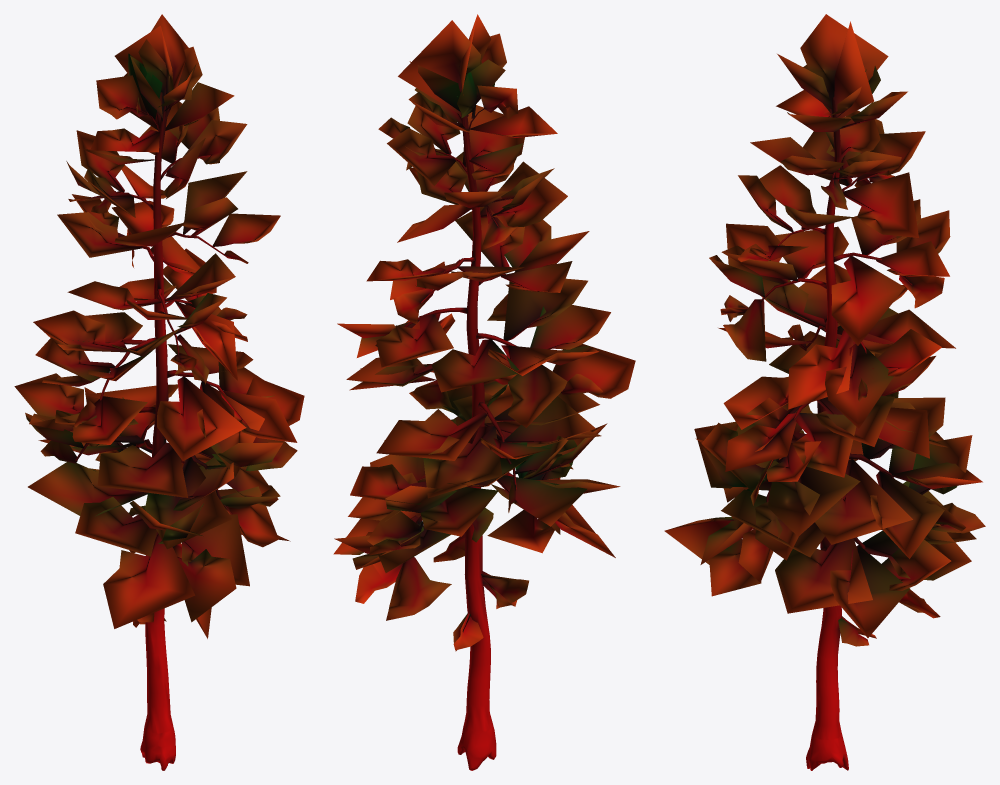
File: PineTree.fbx
3 renders of one model, left to right at view 1: azimuth 30°, elevation 25°; view 2: azimuth 150°, elevation 25°; view 3: azimuth 270°, elevation 25°, orthographic. The views are drawn at different scales.
Parts seen in each view (by area): view 1: PineTree_Leaves_LOD0, PineTree_Bark_LOD0; view 2: PineTree_Leaves_LOD0, PineTree_Bark_LOD0; view 3: PineTree_Leaves_LOD0, PineTree_Bark_LOD0.
Boxes of the visible parts, x1=… form: PineTree_Leaves_LOD0: x1=14, y1=14, x2=304, y2=638; PineTree_Bark_LOD0: x1=75, y1=102, x2=229, y2=770; PineTree_Leaves_LOD0: x1=333, y1=14, x2=635, y2=651; PineTree_Bark_LOD0: x1=404, y1=91, x2=562, y2=770; PineTree_Leaves_LOD0: x1=664, y1=14, x2=985, y2=646; PineTree_Bark_LOD0: x1=760, y1=97, x2=912, y2=770.
Size of what is drawn, in the model's own units: 23.21 by 64.37 by 24.74.
